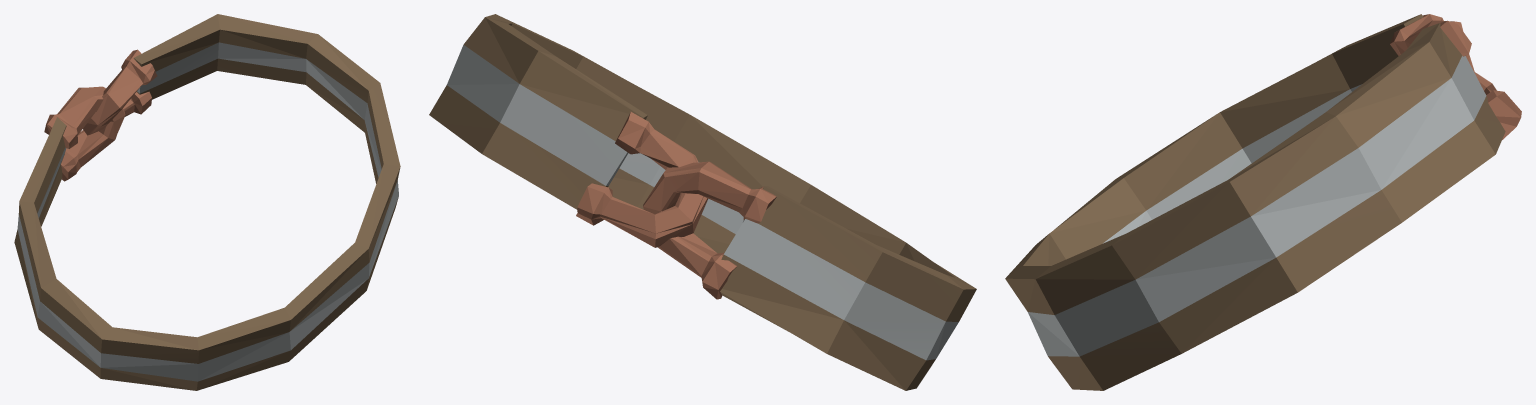
Rendered from amuletCollar2.fbx.
3 renders of one model, left to right at view 1: azimuth 30°, elevation 25°; view 2: azimuth 150°, elevation 25°; view 3: azimuth 270°, elevation 25°, orthographic. The views are drawn at different scales.
Visible parts, largest first — view 1: amuletCollar2; view 2: amuletCollar2; view 3: amuletCollar2.
Boxes of the visible parts, bbox=[...] form: amuletCollar2: bbox=[14, 14, 400, 390]; amuletCollar2: bbox=[429, 14, 976, 390]; amuletCollar2: bbox=[1005, 14, 1521, 390].
Bounding box in the file's own units: 1.88 × 1.32 × 1.53.
